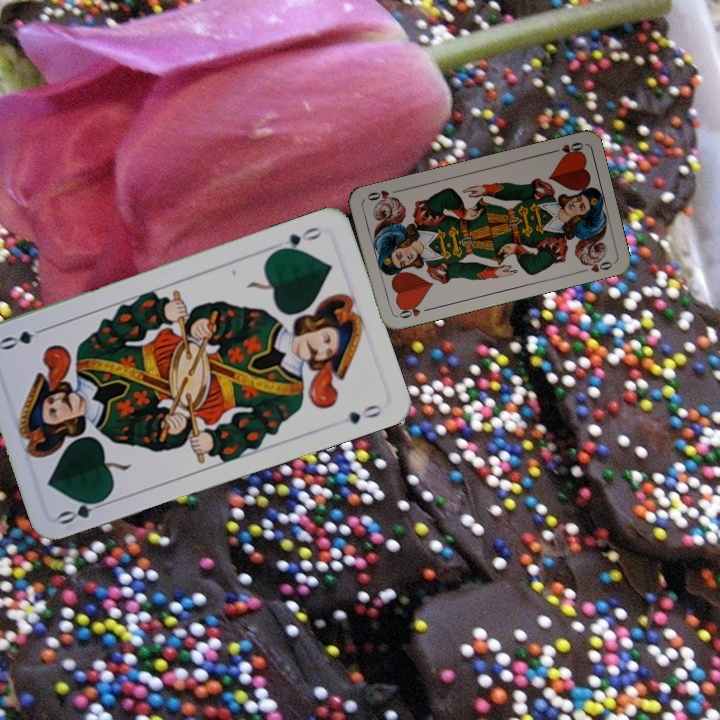GO: (54, 492, 112, 528), (270, 223, 326, 256)
HO: (546, 138, 586, 160), (392, 300, 432, 321)
